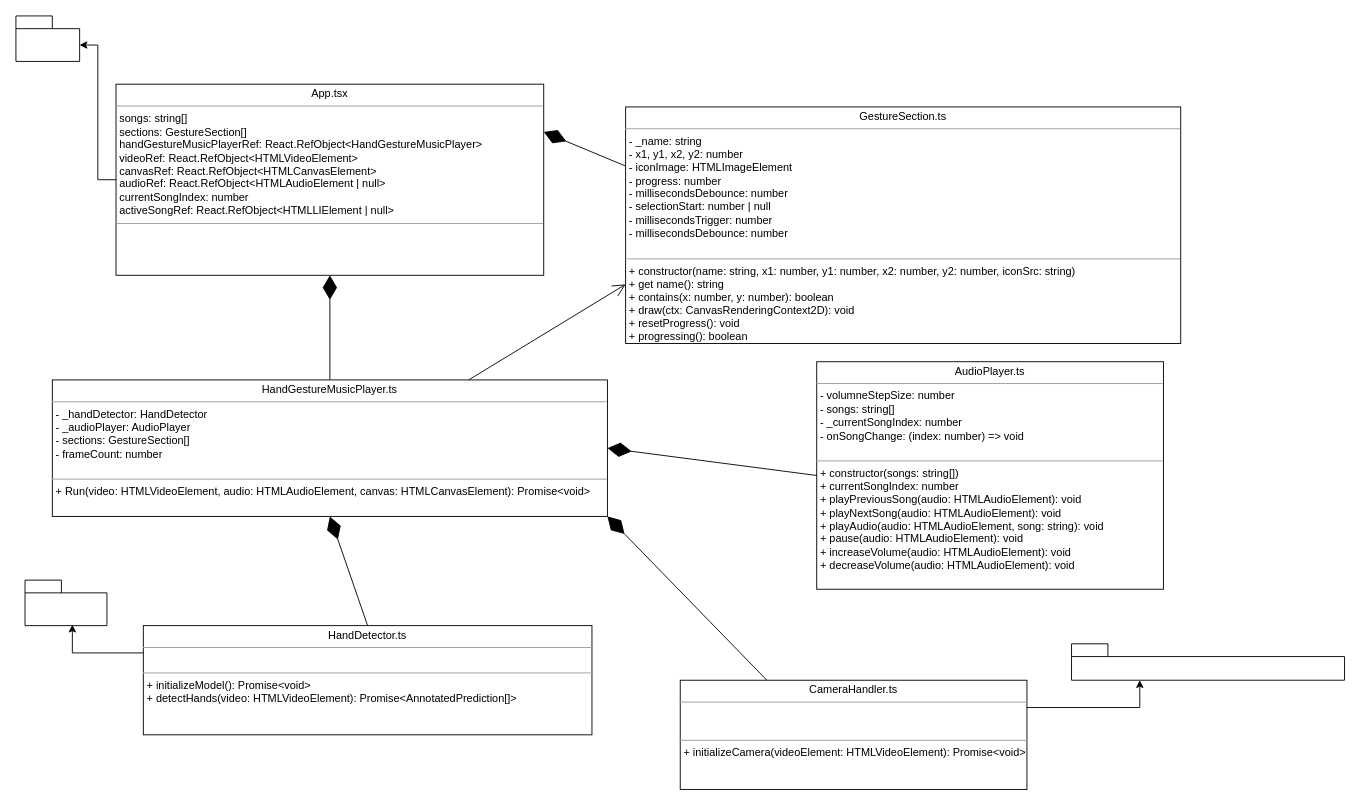
Image size: 1360x805. Some labels were removed from this diagram. The shapes that lost their labels are listed below. From the top down, each one's centre as x and y in pixels, then its label:
point 47,38: React
point 65,602: tensorflow
point 1208,661: Web/API/Navigator.MediaDevice
